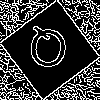Q: (25, 25, 70, 78)
